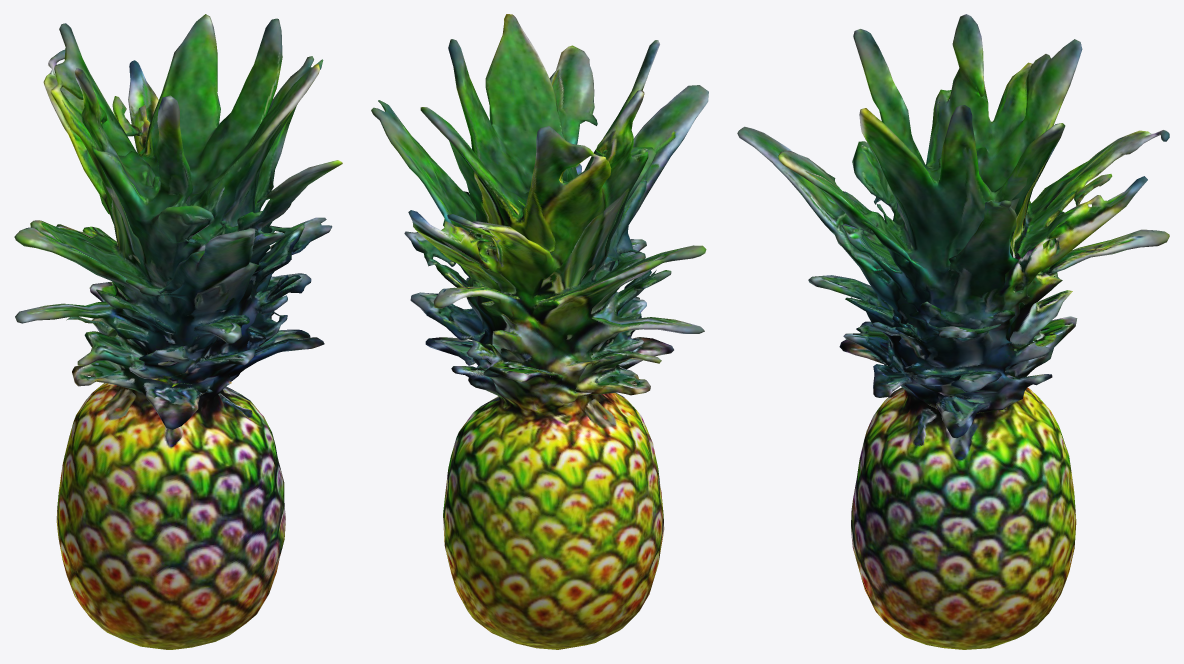
File: pineapple.glb
The picture shows the model from 3 angles, left to right: view 1: azimuth 30°, elevation 25°; view 2: azimuth 150°, elevation 25°; view 3: azimuth 270°, elevation 25°; orthographic projection. The views are drawn at different scales.
Visible parts, largest first — view 1: mesh; view 2: mesh; view 3: mesh.
Boxes of the visible parts, x1,y1,x2,y2 form: mesh: [14, 14, 342, 649]; mesh: [371, 14, 708, 649]; mesh: [737, 14, 1169, 649].
Size of the model in its own units: 0.5734 by 1 by 0.6757.
1 material, 1 textured.
